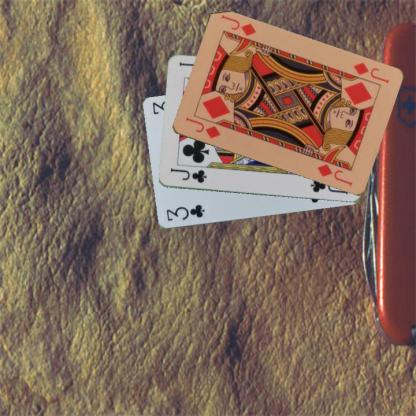3c: (164, 202, 206, 223)
Jc: (168, 166, 208, 184)
Jd: (182, 114, 222, 140), (350, 59, 390, 85)
